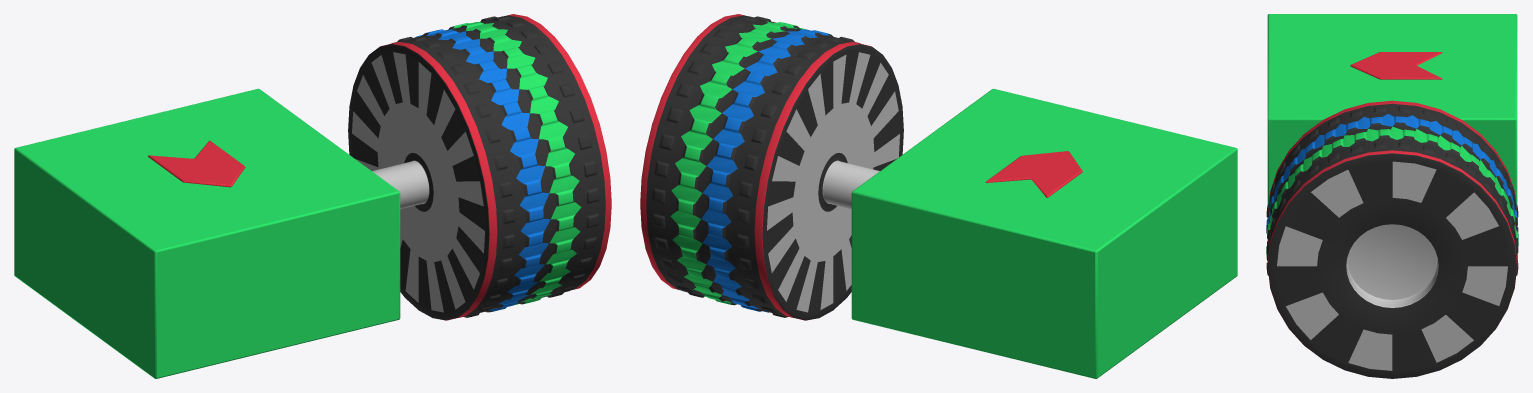
File: mechanical_parts.glb
3 views of the same model, side by side, from view 1: azimuth 30°, elevation 25°; view 2: azimuth 150°, elevation 25°; view 3: azimuth 270°, elevation 25° (orthographic). The views are drawn at different scales.
Visible parts, largest first — view 1: cube, cylinder; view 2: cube, cylinder; view 3: cylinder, cube.
Part boxes in pixels (box(x1,y1,x2,y2)): cube: box(14, 88, 400, 378); cylinder: box(348, 14, 611, 320); cube: box(851, 88, 1237, 378); cylinder: box(640, 14, 903, 320); cylinder: box(1266, 100, 1518, 378); cube: box(1267, 14, 1517, 204).
Size of what is drawn, in the model's own units: 1.86 by 1.01 by 1.01.
